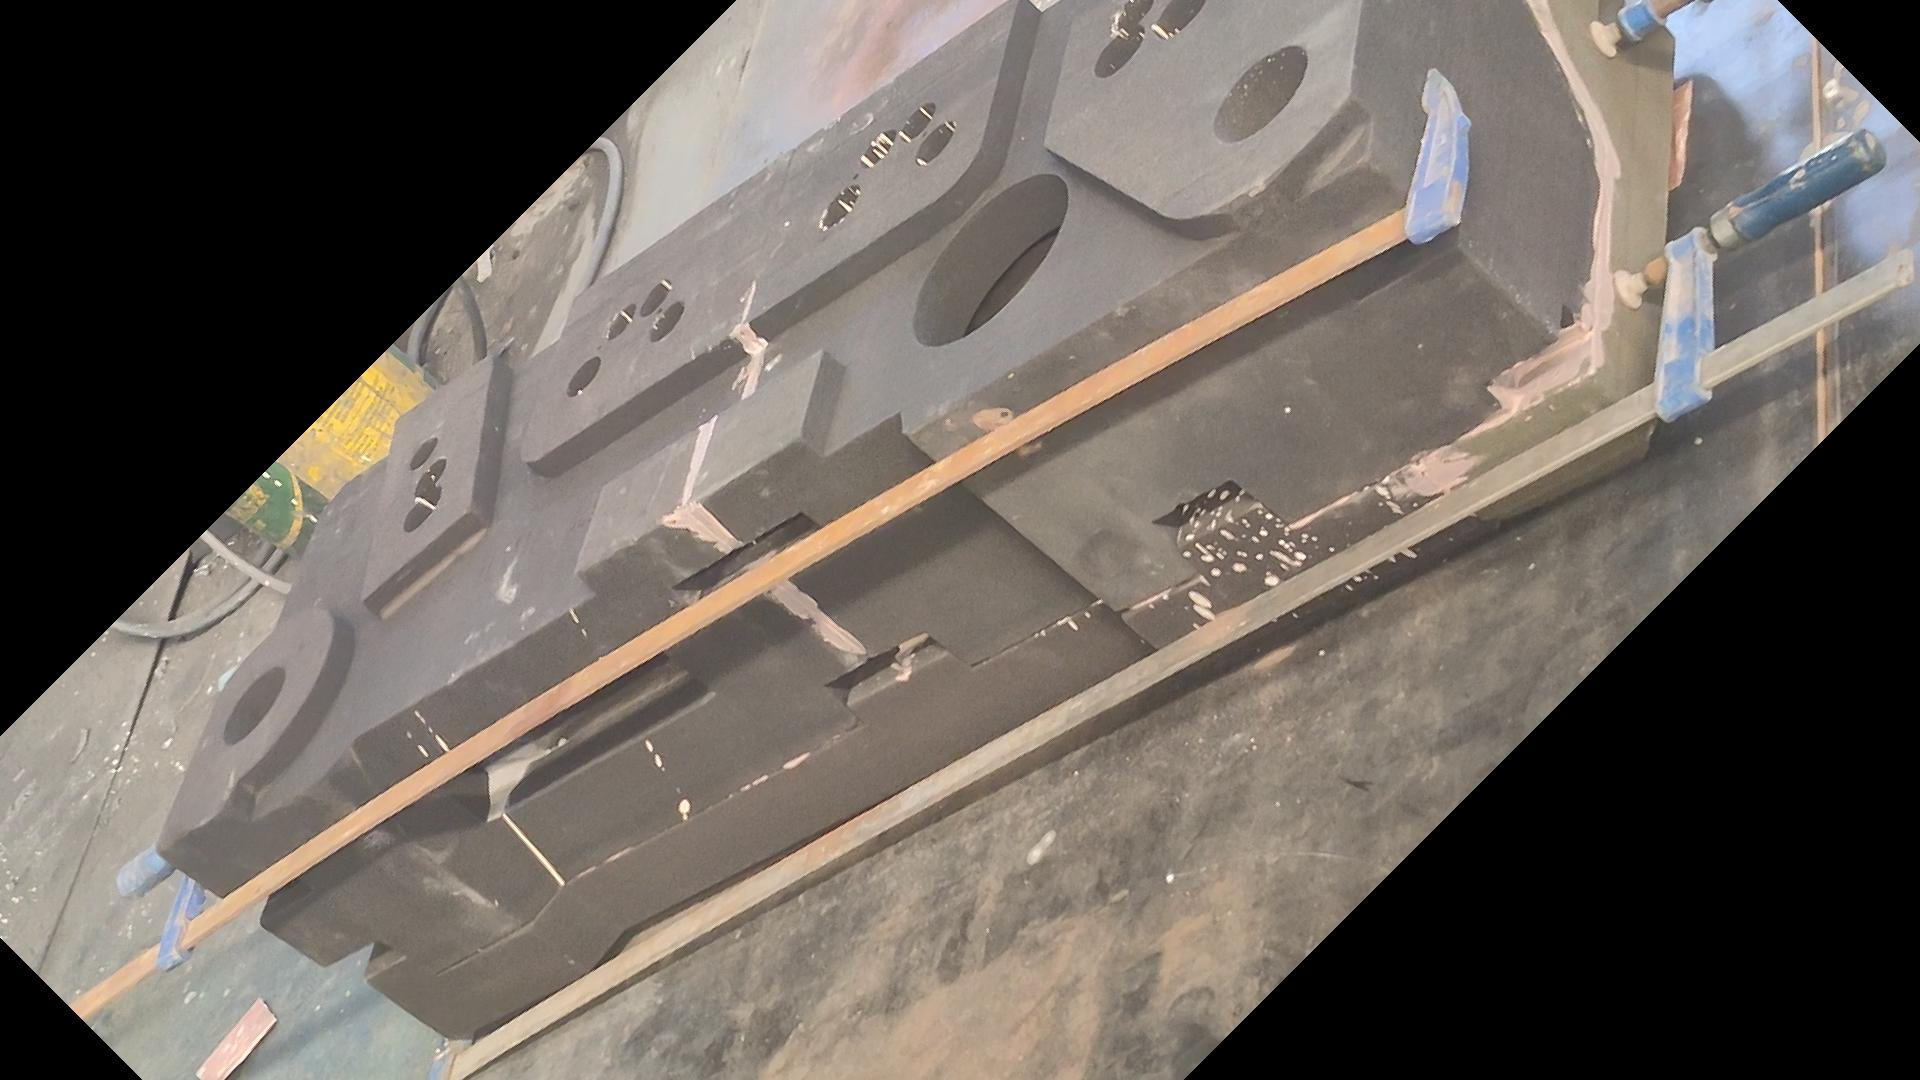pouring hole: (1211, 44, 1307, 145), (222, 665, 286, 746)
